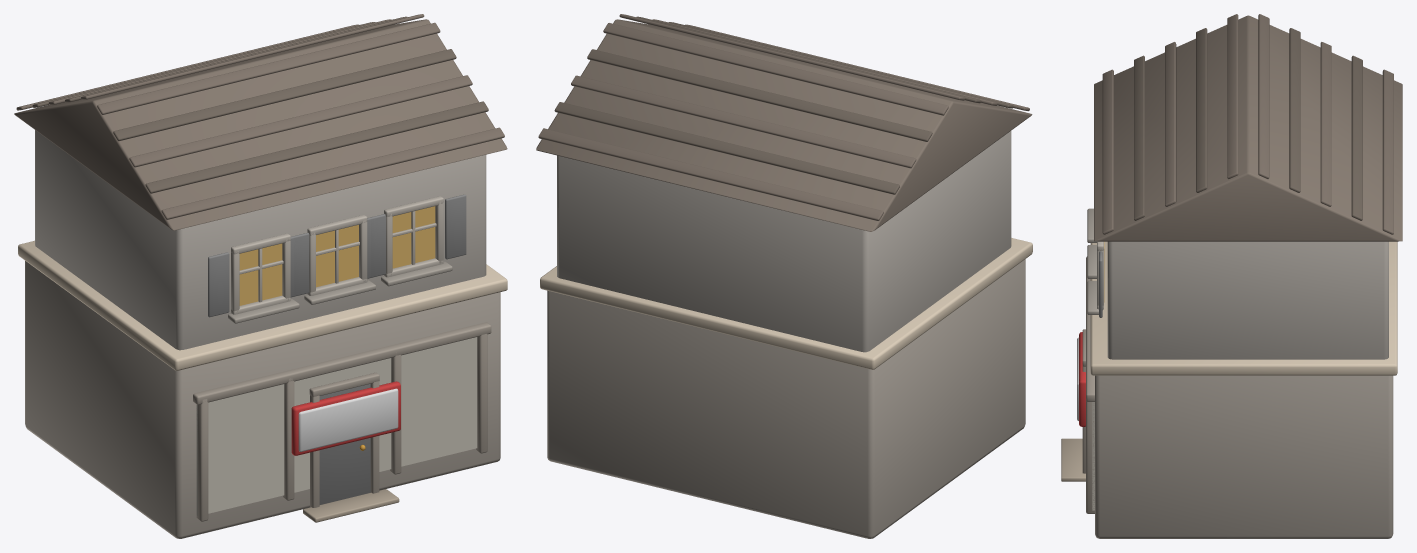
File: bld_cafe_rent.glb
3 renders of one model, left to right at view 1: azimuth 30°, elevation 25°; view 2: azimuth 150°, elevation 25°; view 3: azimuth 270°, elevation 25°, orthographic. The views are drawn at different scales.
Parts seen in each view (by area): view 1: bld_cafe_rent, Glass_bld_cafe_rent; view 2: bld_cafe_rent; view 3: bld_cafe_rent.
Boxes of the visible parts, <box> form: bld_cafe_rent: <box>14,14,507,538</box>; Glass_bld_cafe_rent: <box>239,206,435,305</box>; bld_cafe_rent: <box>536,14,1032,538</box>; bld_cafe_rent: <box>1061,14,1402,538</box>.
Bounding box in the file's own units: 8.85 × 9.61 × 8.01.
